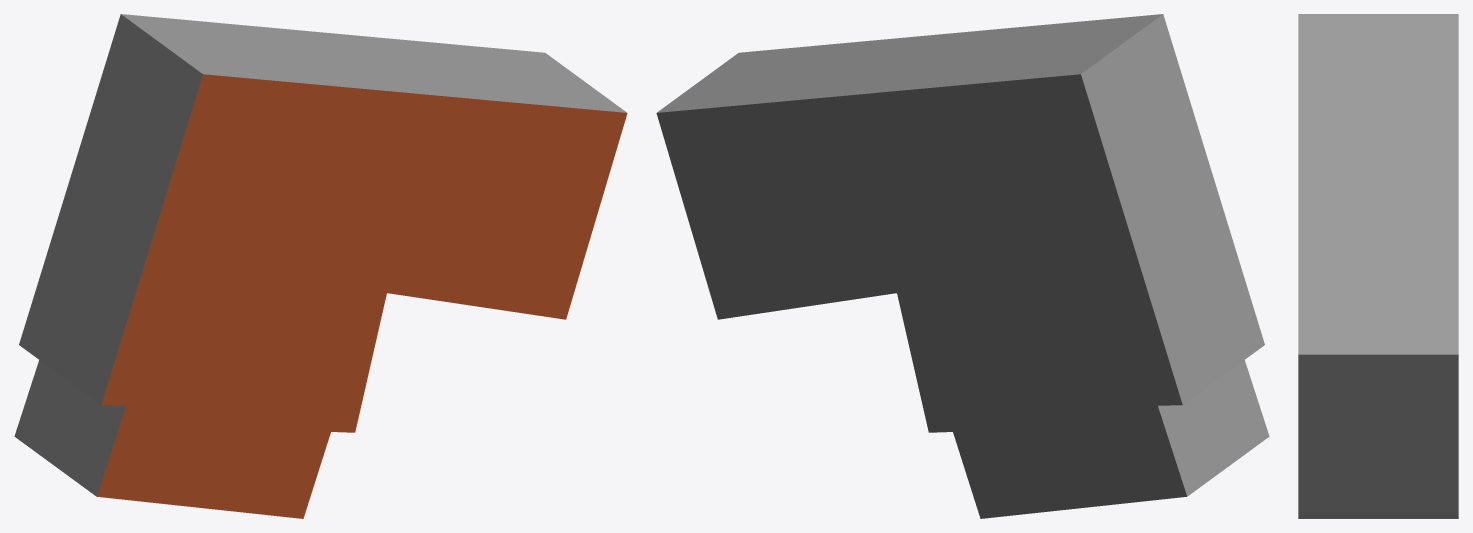
The model's file is construction_1653_assumed_A_Casa_h6m.obj.
The picture shows the model from 3 angles, left to right: view 1: azimuth 30°, elevation 25°; view 2: azimuth 150°, elevation 25°; view 3: azimuth 270°, elevation 25°; orthographic projection. The views are drawn at different scales.
Parts seen in each view (by area): view 1: construction_1653_assumed_A_Casa; view 2: construction_1653_assumed_A_Casa; view 3: construction_1653_assumed_A_Casa.
Boxes of the visible parts, <box> form: construction_1653_assumed_A_Casa: <box>14,14,627,518</box>; construction_1653_assumed_A_Casa: <box>656,14,1269,518</box>; construction_1653_assumed_A_Casa: <box>1298,14,1458,518</box>.
Size of the model in its own units: 22.35 by 18.88 by 6.
